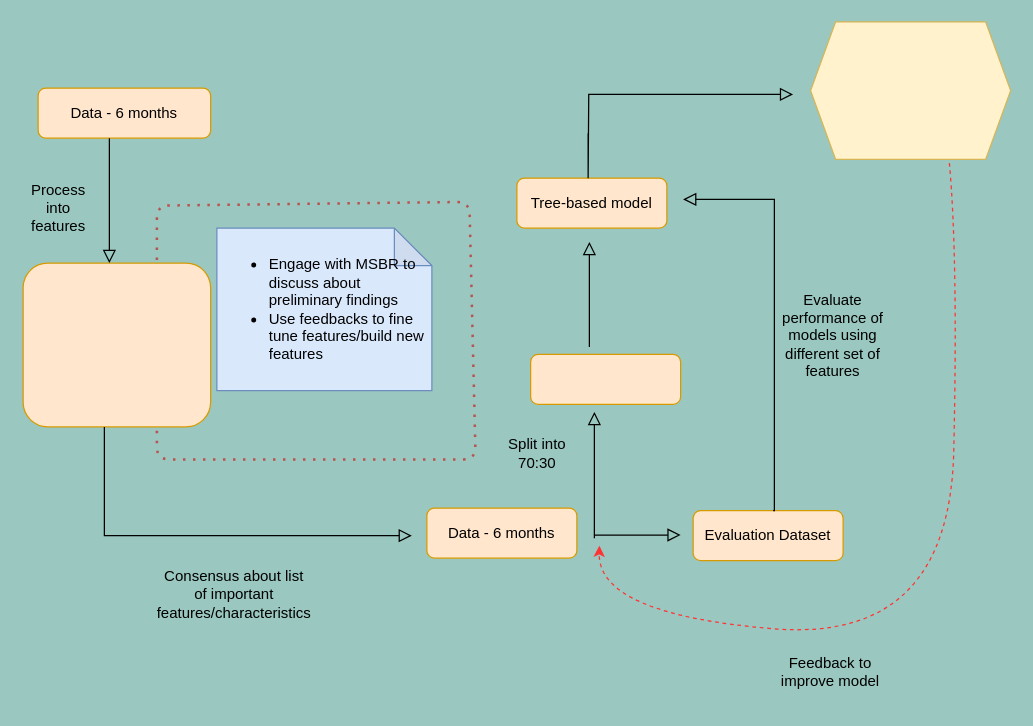
The diagram is 1033 pixels wide and 726 high, and some of its shapes have lost their labels. The centre of each missing label's shape, as x and y in pixels:
"Features Study For example: Number of transaction Location of transaction" goes at [116,344].
"Presentation to MSBR" goes at [910,90].
"Training Dataset" goes at [605,378].
